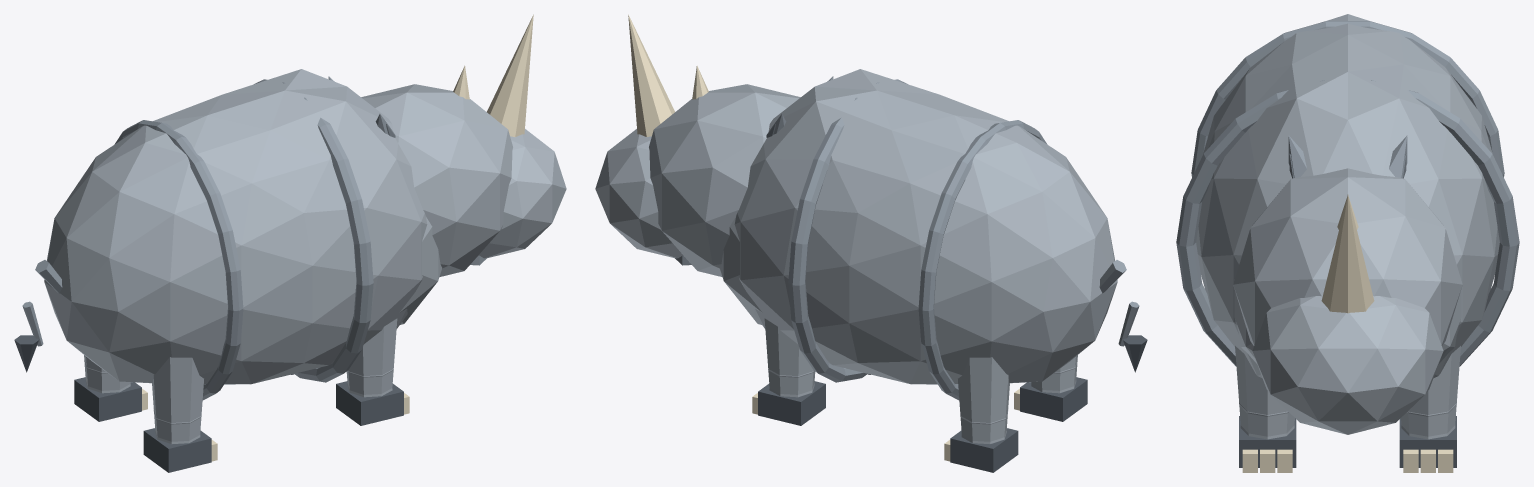
Rendered from rhino.glb.
3 renders of one model, left to right at view 1: azimuth 30°, elevation 25°; view 2: azimuth 150°, elevation 25°; view 3: azimuth 270°, elevation 25°, orthographic. The views are drawn at different scales.
Visible parts, largest first — view 1: BodyCore, Skull, Snout, FoldShoulder, FoldHip, LegBRUpper, HornMain, LegFRUpper, LegBRHoof, LegFRHoof, LegBLHoof, Chest (+1 smaller); view 2: BodyCore, Skull, Snout, FoldShoulder, FoldHip, LegBLUpper, HornMain, LegFLUpper, LegBLHoof, LegFLHoof, LegBRHoof, Chest (+1 smaller); view 3: BodyCore, Skull, Snout, FoldShoulder, FoldHip, HornMain, LegFRUpper, LegFLUpper, LegFRHoof, LegFLHoof, Chest, EarR (+7 smaller).
Boxes of the visible parts, <box> form: BodyCore: <box>44,69,427,384</box>; Skull: <box>361,84,512,276</box>; Snout: <box>478,129,566,258</box>; FoldShoulder: <box>254,79,373,382</box>; FoldHip: <box>114,120,243,400</box>; LegBRUpper: <box>152,357,203,441</box>; HornMain: <box>487,14,533,136</box>; LegFRUpper: <box>346,318,397,394</box>; LegBRHoof: <box>143,428,211,472</box>; LegFRHoof: <box>336,381,403,425</box>; LegBLHoof: <box>74,377,141,421</box>; Chest: <box>399,217,441,324</box>; BodyCore: <box>734,69,1117,384</box>; Skull: <box>649,84,800,276</box>; Snout: <box>595,129,683,258</box>; FoldShoulder: <box>788,79,907,382</box>; FoldHip: <box>918,120,1047,400</box>; LegBLUpper: <box>958,357,1009,441</box>; HornMain: <box>628,14,674,136</box>; LegFLUpper: <box>764,318,815,394</box>; LegBLHoof: <box>950,428,1018,472</box>; LegFLHoof: <box>758,381,825,425</box>; LegBRHoof: <box>1020,377,1087,421</box>; Chest: <box>720,217,762,324</box>; BodyCore: <box>1196,14,1499,378</box>; Skull: <box>1233,168,1462,345</box>; Snout: <box>1252,296,1443,434</box>; FoldShoulder: <box>1176,80,1519,366</box>; FoldHip: <box>1191,21,1504,177</box>; HornMain: <box>1321,194,1374,313</box>; LegFRUpper: <box>1235,346,1294,436</box>; LegFLUpper: <box>1401,346,1460,436</box>; LegFRHoof: <box>1239,416,1296,467</box>; LegFLHoof: <box>1399,416,1456,467</box>; Chest: <box>1234,279,1461,363</box>; EarR: <box>1288,135,1306,177</box>.
Bounding box in the file's own units: 3.75 × 2.16 × 1.8.
